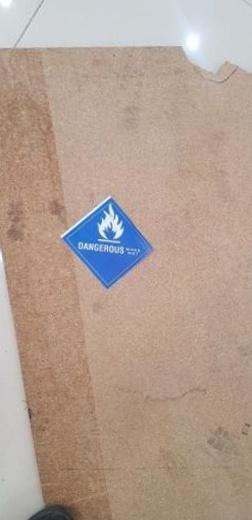dangerous-when-wet: (60, 195, 156, 289)
